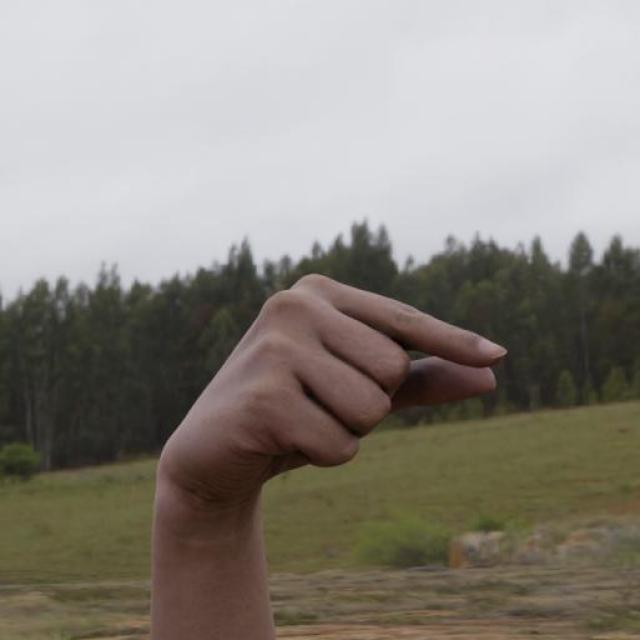G: (156, 268, 521, 497)
